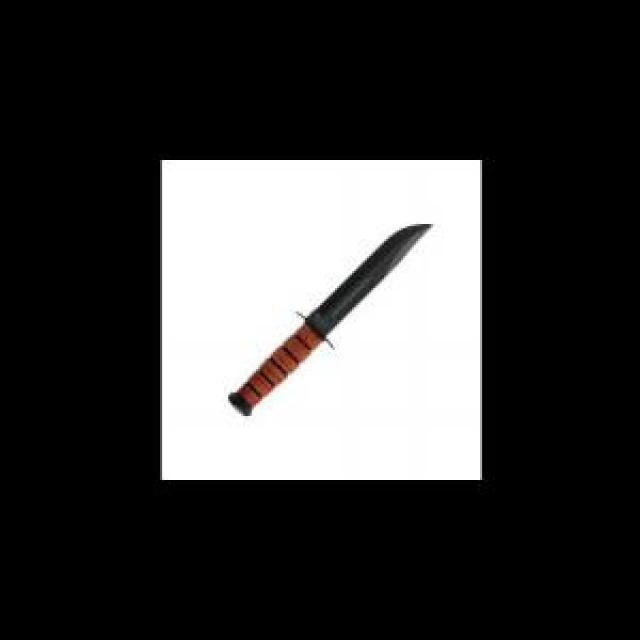knife: (228, 207, 442, 428)
